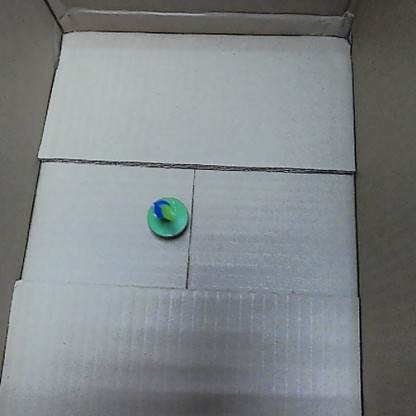leafairy: (143, 192, 190, 243)
